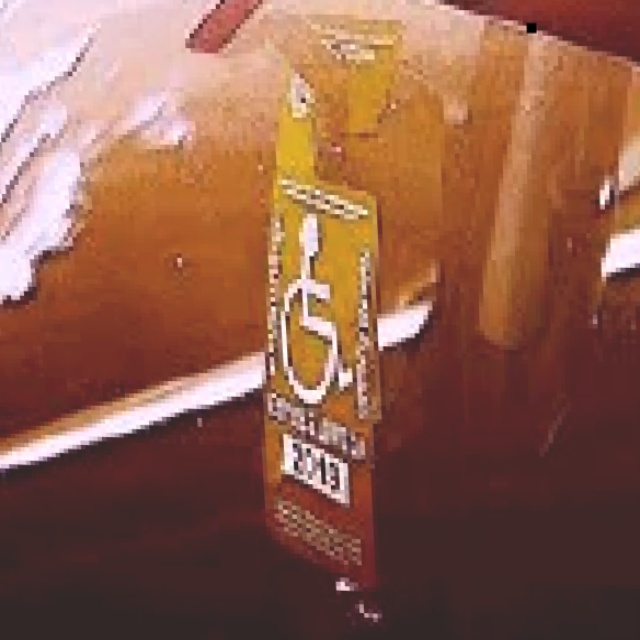ISA: (271, 201, 355, 413)
